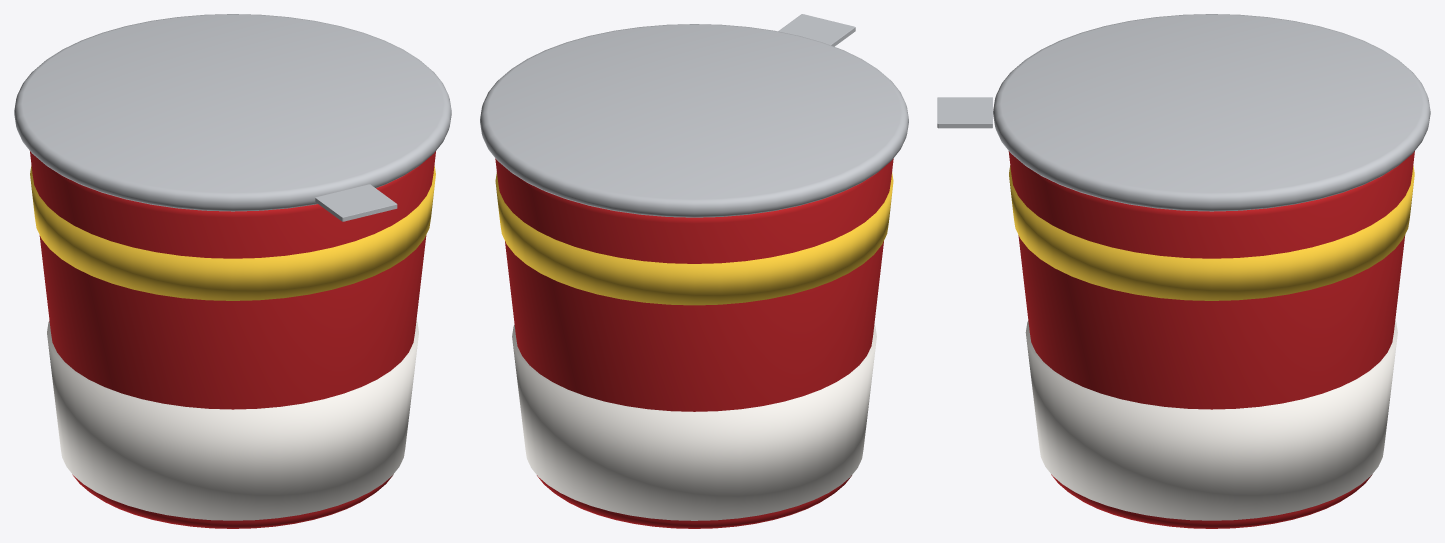
File: CupRamen.fbx
3 renders of one model, left to right at view 1: azimuth 30°, elevation 25°; view 2: azimuth 150°, elevation 25°; view 3: azimuth 270°, elevation 25°, orthographic.
Parts seen in each view (by area): view 1: Ramen_Lid, Ramen_Cup, Ramen_Band, Ramen_Stripe, Ramen_LidTab; view 2: Ramen_Lid, Ramen_Cup, Ramen_Band, Ramen_Stripe, Ramen_LidTab; view 3: Ramen_Lid, Ramen_Cup, Ramen_Band, Ramen_Stripe, Ramen_LidTab.
Boxes of the visible parts, left/top/right/bottom form: Ramen_Lid: left=14, top=14, right=451, bottom=211; Ramen_Cup: left=30, top=151, right=435, bottom=528; Ramen_Band: left=47, top=320, right=418, bottom=520; Ramen_Stripe: left=30, top=165, right=435, bottom=300; Ramen_LidTab: left=315, top=184, right=397, bottom=221; Ramen_Lid: left=480, top=24, right=908, bottom=217; Ramen_Cup: left=495, top=158, right=893, bottom=528; Ramen_Band: left=512, top=324, right=876, bottom=520; Ramen_Stripe: left=495, top=172, right=893, bottom=305; Ramen_LidTab: left=778, top=14, right=855, bottom=46; Ramen_Lid: left=993, top=14, right=1430, bottom=211; Ramen_Cup: left=1008, top=151, right=1414, bottom=528; Ramen_Band: left=1025, top=321, right=1397, bottom=520; Ramen_Stripe: left=1009, top=165, right=1414, bottom=300; Ramen_LidTab: left=937, top=97, right=992, bottom=128.
Size of the model in its own units: 1.1 by 0.995 by 1.24.
